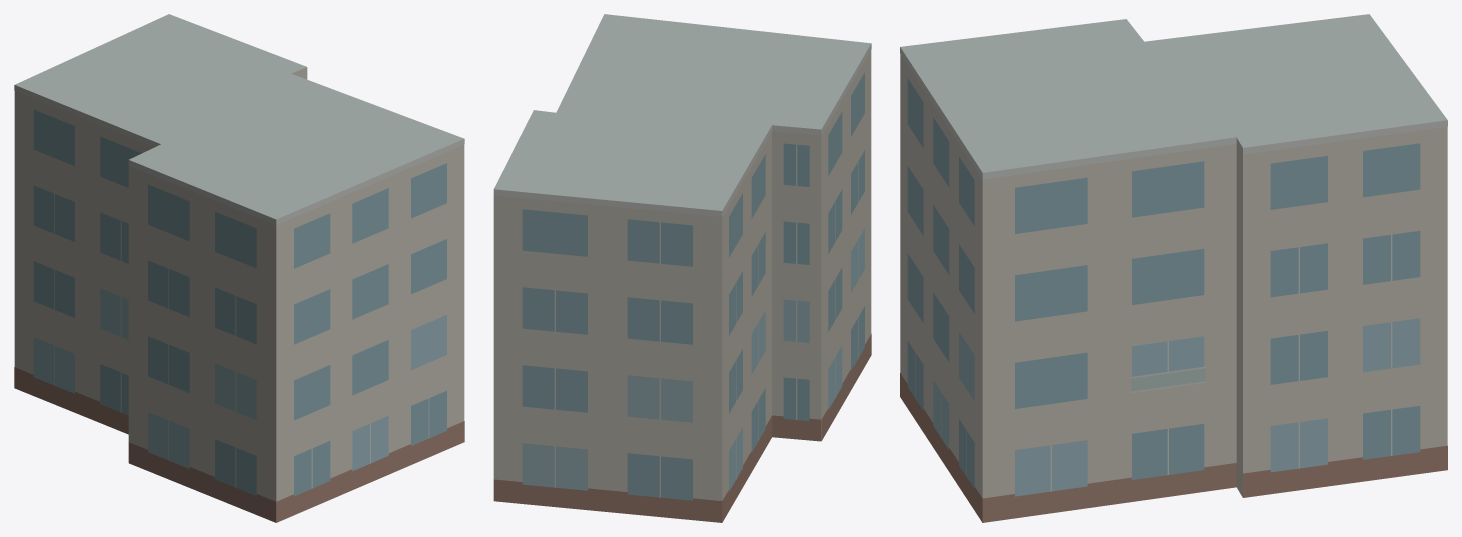
File: survey-upis-32612277.glb
3 renders of one model, left to right at view 1: azimuth 30°, elevation 25°; view 2: azimuth 150°, elevation 25°; view 3: azimuth 270°, elevation 25°, orthographic. The views are drawn at different scales.
Visible parts, largest first — view 1: survey-upis-32612277.tmp; view 2: survey-upis-32612277.tmp; view 3: survey-upis-32612277.tmp.
Boxes of the visible parts, x1,y1,x2,y2 form: survey-upis-32612277.tmp: (14, 14, 464, 522); survey-upis-32612277.tmp: (493, 14, 871, 522); survey-upis-32612277.tmp: (900, 14, 1447, 522).
Size of the model in its own units: 12.47 by 12.8 by 18.16.
